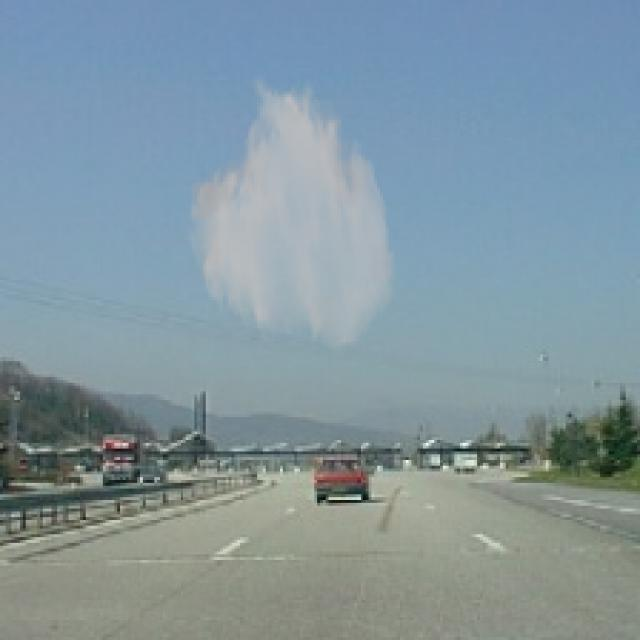Smoke: (186, 72, 397, 354)
